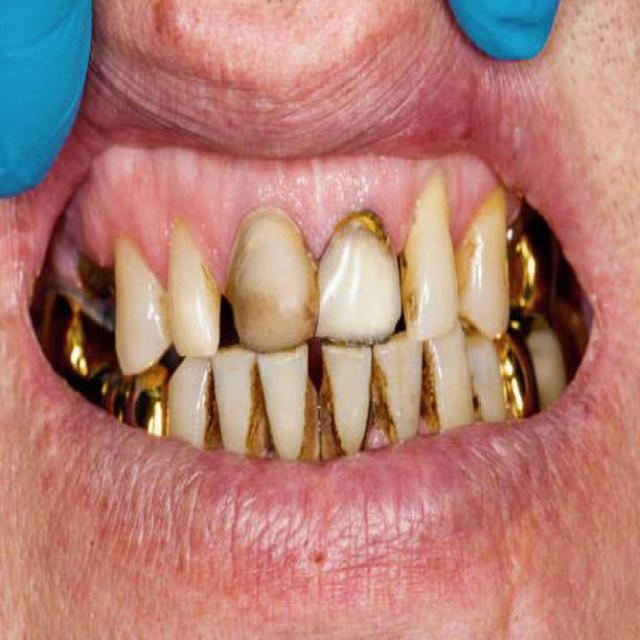caries: (465, 386, 491, 430)
